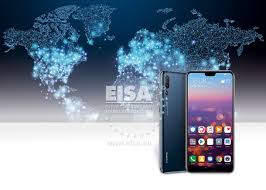huawei: (181, 69, 235, 174)
